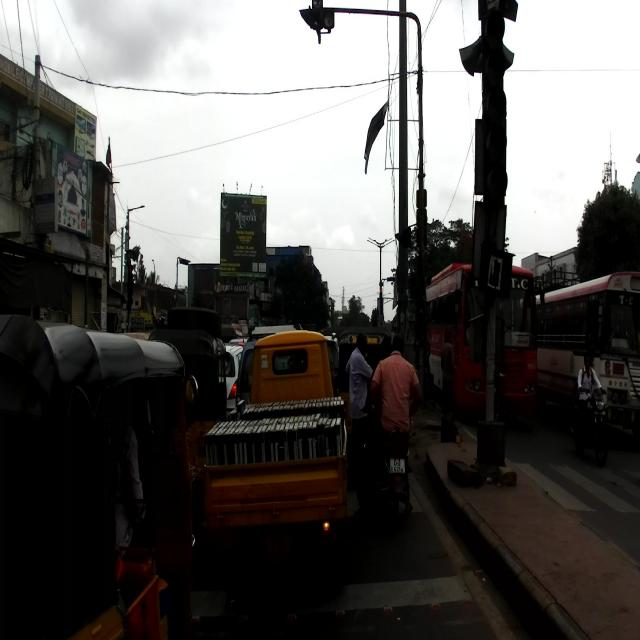autorickshaw: (0, 312, 199, 640), (198, 327, 349, 577), (147, 325, 230, 518), (336, 320, 391, 434)
bus: (423, 260, 544, 422), (535, 266, 639, 442)
car: (236, 320, 302, 409)
motorcycle: (567, 383, 610, 466)
